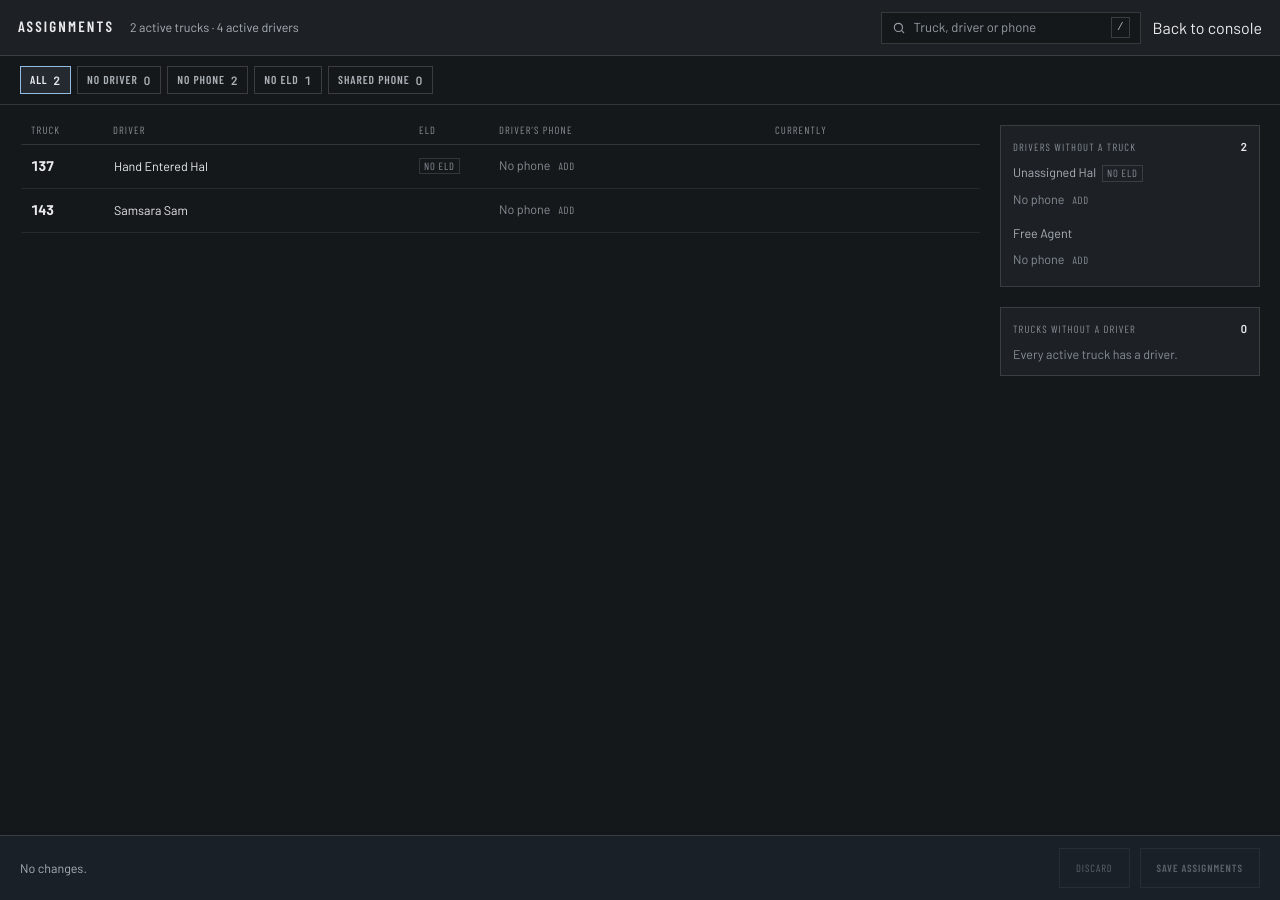
Scenario: Currently shows only on a changed row (§12.130) › says "was" and the saved driver, struck through, once the row changes
Click the dropdown named "Driver for truck 143": (253, 210) x1=103 y1=194 x2=403 y2=226
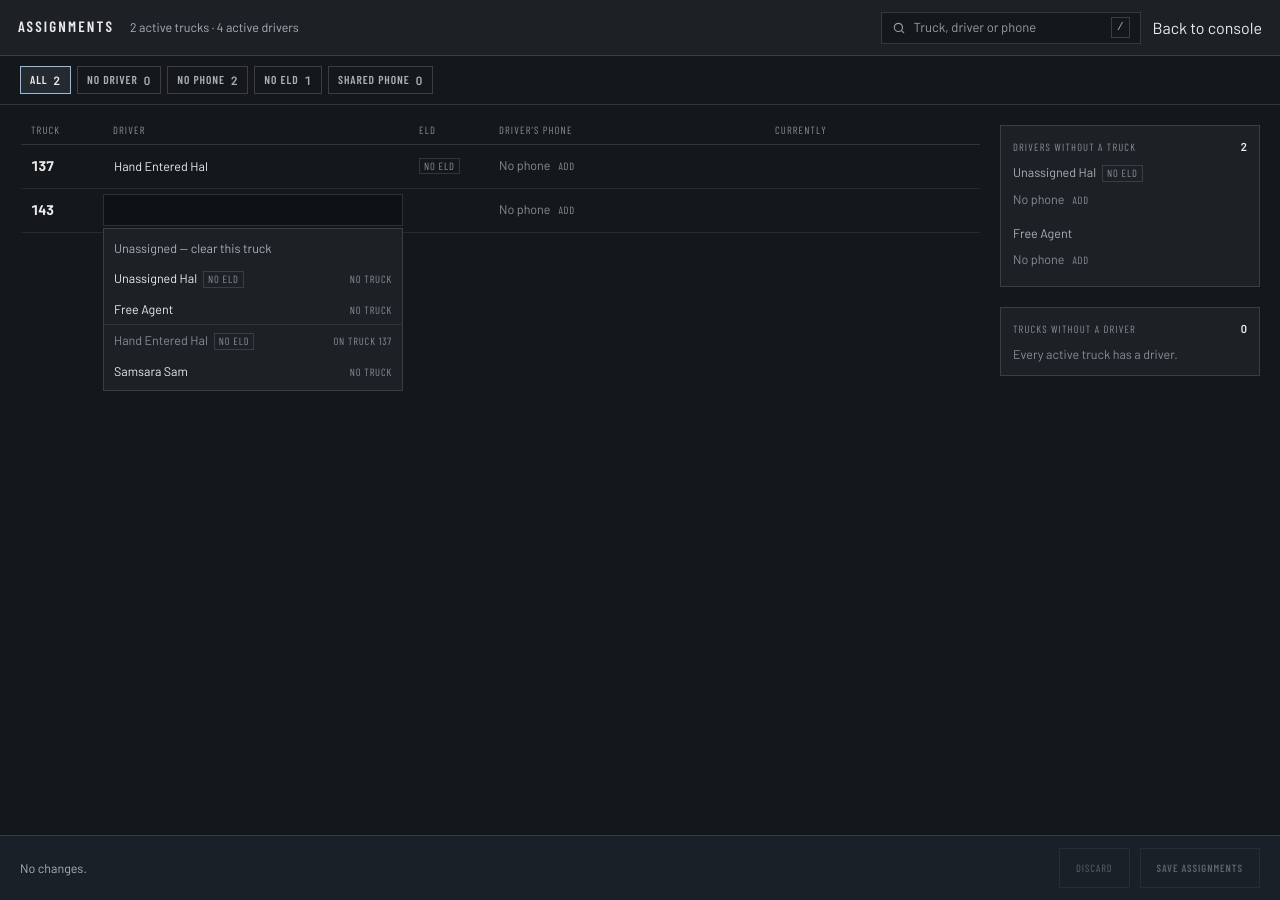
Click the option "Unassigned Hal No ELD no truck": (156, 278) x1=104 y1=263 x2=402 y2=294
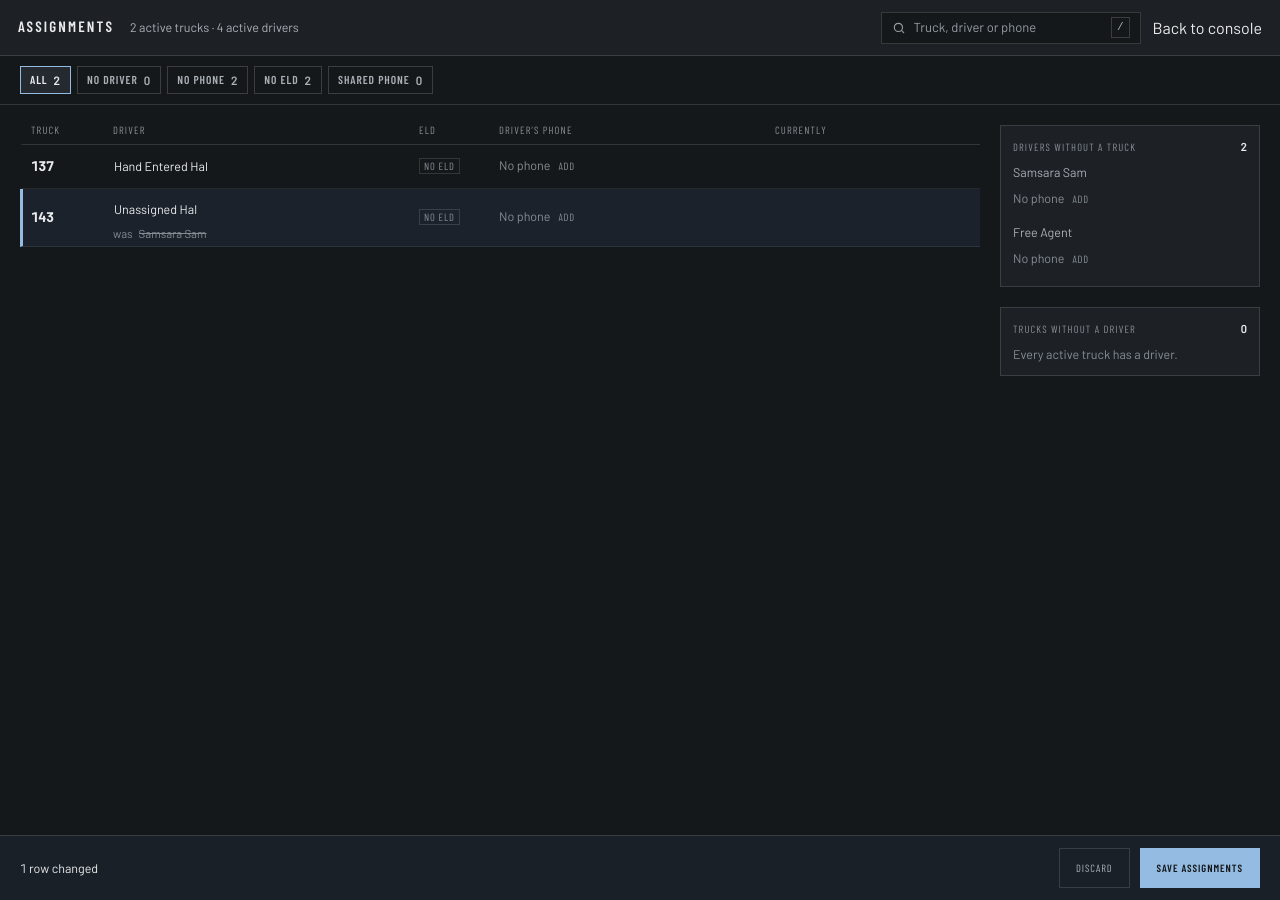
expect the text with class "line-through" reads "Samsara Sam": met, box x1=139 y1=226 x2=206 y2=240
expect the element showing "was Samsara Sam" is shown: met, box x1=113 y1=226 x2=206 y2=240
